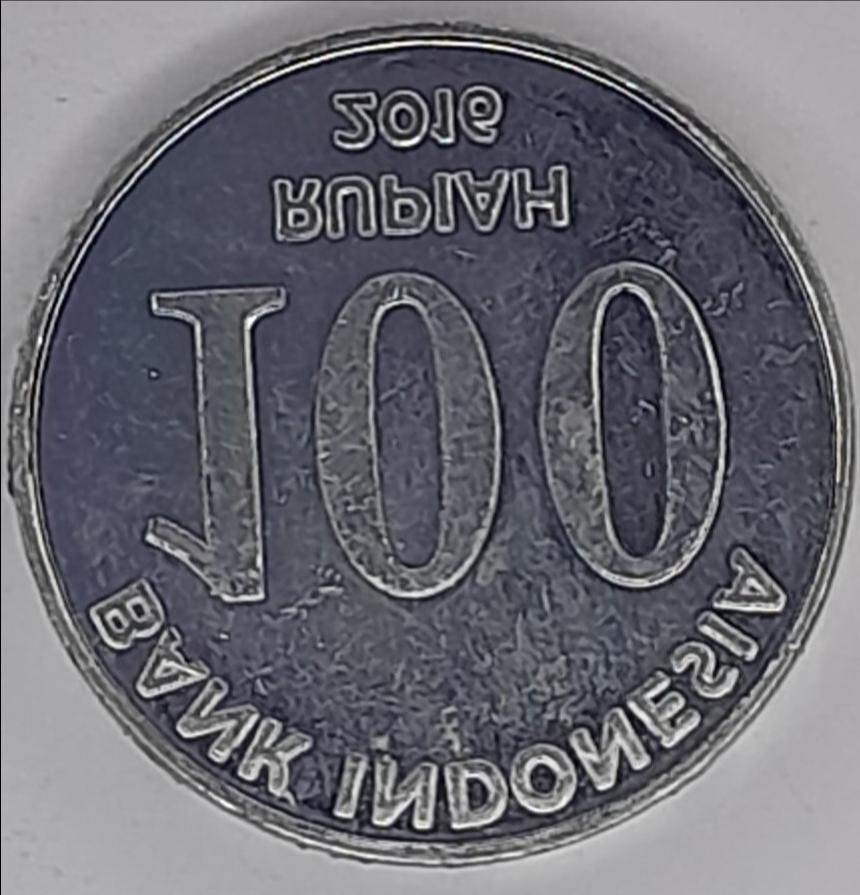coin_100_e2016: (0, 15, 859, 870)
